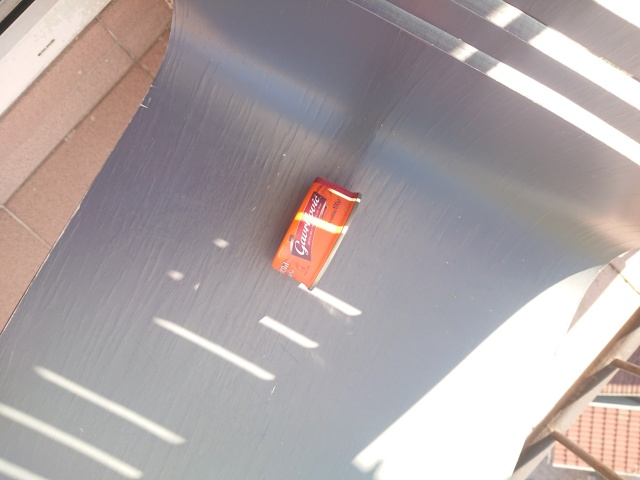Gavrilovic Pork Liver Pate 100g: (268, 173, 364, 293)
